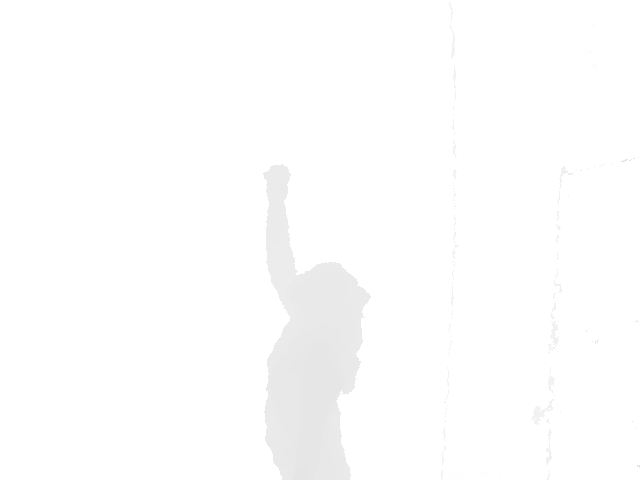hand: (263, 164, 292, 203)
head: (289, 261, 373, 326)
person: (263, 163, 373, 480)
